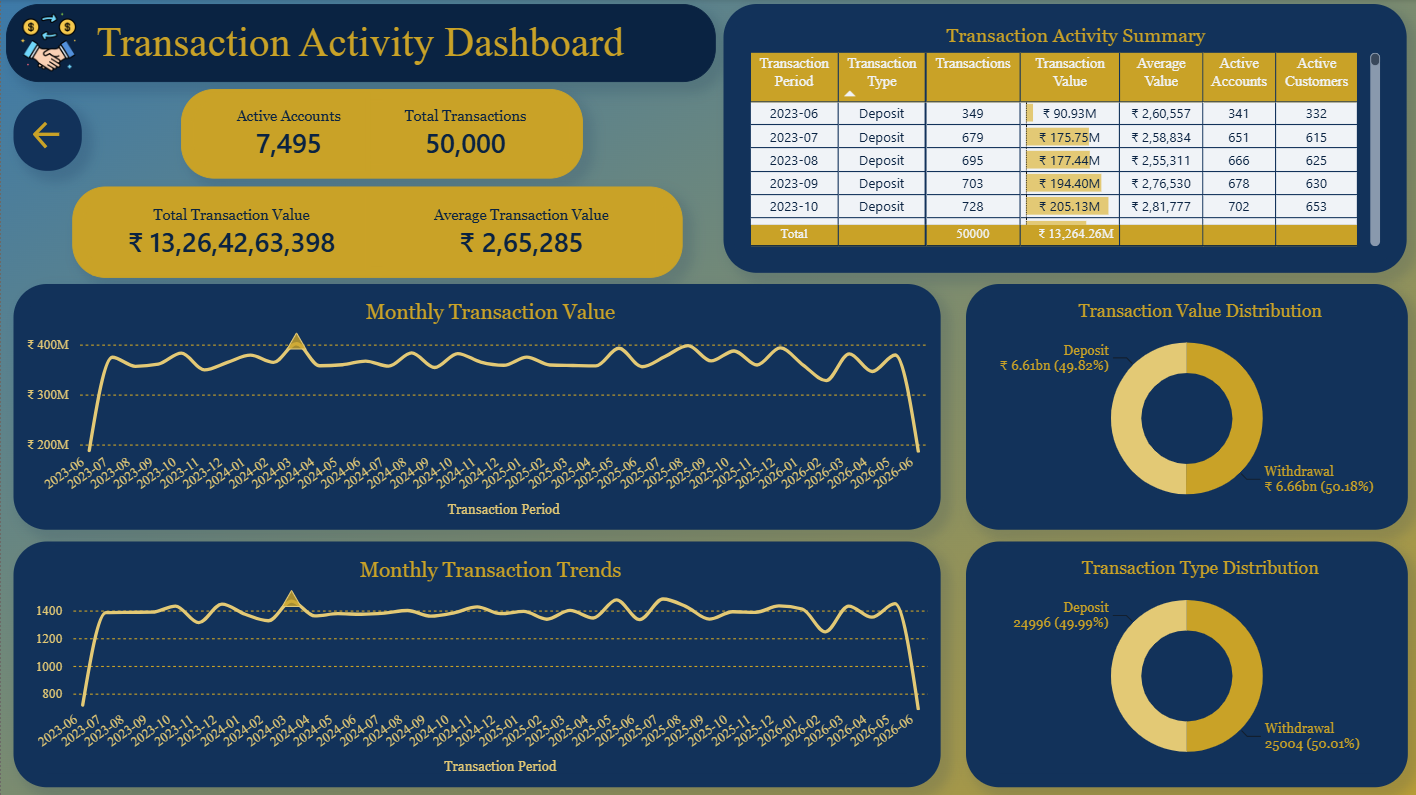

What the dashboard file says about the page in this screenshot:
{"tool":"powerbi","page":{"name":"Transaction Activity Dashboard","canvas":[1280,720],"ordinal":5},"visuals":[{"type":"shape","box":[5,5,640,70],"z":0},{"type":"shape","box":[162.5,80.9,362.4,80.4],"z":1000},{"type":"shape","box":[63.8,168.8,550,82.5],"z":2000},{"type":"cardVisual","fields":{"Data":["vw_transaction_activity.Total Transactions"]},"box":[343.8,85,150,75],"z":3000},{"type":"cardVisual","fields":{"Data":["vw_transaction_activity.Total Transaction Value"]},"box":[82.5,172,251.2,77],"z":4000},{"type":"cardVisual","fields":{"Data":["vw_transaction_activity.Average Transaction Value"]},"box":[343.8,172,251.2,77],"z":5000},{"type":"cardVisual","fields":{"Data":["vw_transaction_kpis.Active Accounts"]},"box":[186.2,85,147.5,75],"z":6000},{"type":"lineChart","title":"Monthly Transaction Trends","fields":{"Category":["vw_transaction_activity.Transaction_Month"],"Y":["Sum(vw_transaction_activity.Number_of_Transactions)"]},"box":[11.1,489.6,836.2,221.4],"z":7000},{"type":"donutChart","title":"Transaction Type Distribution","fields":{"Category":["vw_transaction_activity.Transaction_Type"],"Y":["Sum(vw_transaction_activity.Number_of_Transactions)"]},"box":[869.6,489.6,398.3,221.4],"z":8000},{"type":"donutChart","title":"Transaction Value Distribution","fields":{"Category":["vw_transaction_activity.Transaction_Type"],"Y":["Sum(vw_transaction_activity.Total_Transaction_Value)"]},"box":[869.6,256.9,398.3,221.4],"z":9000},{"type":"lineChart","title":"Monthly Transaction Value","fields":{"Category":["vw_transaction_activity.Transaction_Month"],"Y":["Sum(vw_transaction_activity.Total_Transaction_Value)"]},"box":[11.1,256.9,836.2,221.4],"z":10000},{"type":"tableEx","title":"Transaction Activity Summary","fields":{"Values":["vw_transaction_activity.Transaction_Month","vw_transaction_activity.Transaction_Type","Sum(vw_transaction_activity.Number_of_Transactions)","Sum(vw_transaction_activity.Total_Transaction_Value)","vw_transaction_activity.Average_Transaction_Value","vw_transaction_activity.Active_Accounts","vw_transaction_activity.Active_Customers"]},"box":[651.2,5,616.2,242.5],"z":11000},{"type":"textbox","box":[67.5,12.5,512.5,70],"z":12000},{"type":"actionButton","box":[11.2,90,61.2,65],"z":13000},{"type":"image","box":[15,12.5,57.5,52.5],"z":14000}]}

Visuals, with their boxes in screenshot pixels (x1, y1, x2, y2), scaled from the page's 1280x720 canvas onto the 1416x795 screenshot:
shape: crop(6, 6, 714, 83)
shape: crop(180, 89, 581, 178)
shape: crop(71, 186, 679, 277)
cardVisual - vw_transaction_activity.Total Transactions: crop(380, 94, 546, 177)
cardVisual - vw_transaction_activity.Total Transaction Value: crop(91, 190, 369, 275)
cardVisual - vw_transaction_activity.Average Transaction Value: crop(380, 190, 658, 275)
cardVisual - vw_transaction_kpis.Active Accounts: crop(206, 94, 369, 177)
"Monthly Transaction Trends" lineChart: crop(12, 541, 937, 785)
"Transaction Type Distribution" donutChart: crop(962, 541, 1403, 785)
"Transaction Value Distribution" donutChart: crop(962, 284, 1403, 528)
"Monthly Transaction Value" lineChart: crop(12, 284, 937, 528)
"Transaction Activity Summary" tableEx: crop(720, 6, 1402, 273)
textbox: crop(75, 14, 642, 91)
actionButton: crop(12, 99, 80, 171)
image: crop(17, 14, 80, 72)
